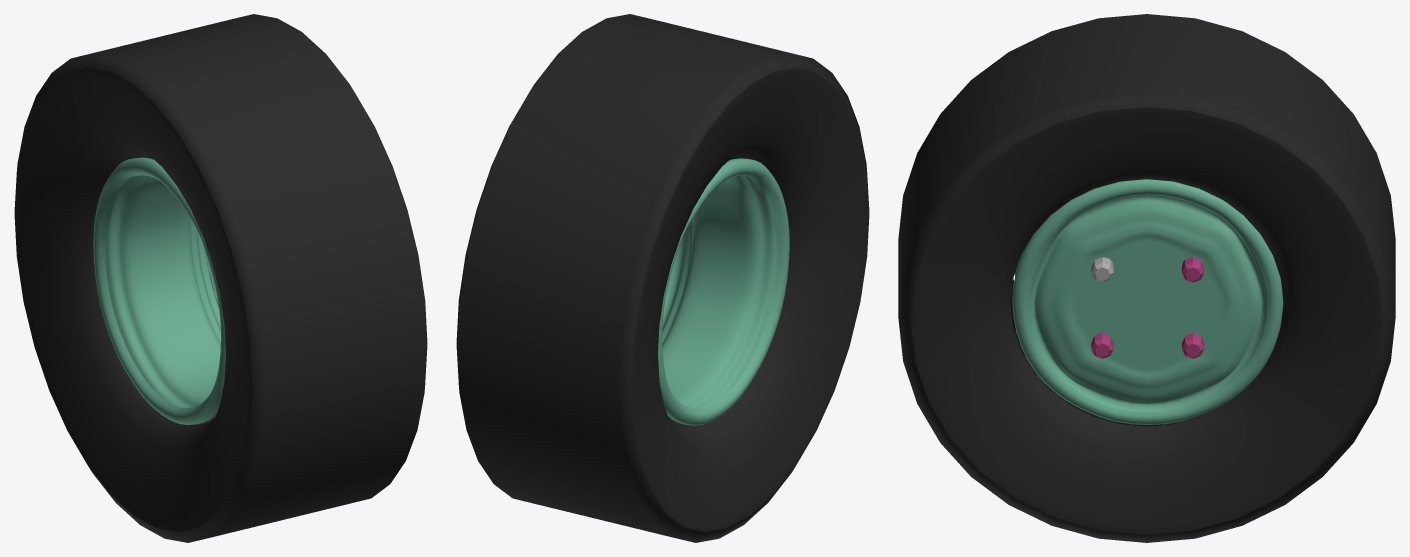
The model's file is LLANTA FINAL.fbx.
3 renders of one model, left to right at view 1: azimuth 30°, elevation 25°; view 2: azimuth 150°, elevation 25°; view 3: azimuth 270°, elevation 25°, orthographic.
Visible parts, largest first — view 1: Trailer_videojuego:LLANTA, Trailer_videojuego:RIN; view 2: Trailer_videojuego:LLANTA, Trailer_videojuego:RIN; view 3: Trailer_videojuego:LLANTA, Trailer_videojuego:RIN.
Boxes of the visible parts, bbox=[...] form: Trailer_videojuego:LLANTA: bbox=[14, 14, 427, 542]; Trailer_videojuego:RIN: bbox=[93, 157, 225, 424]; Trailer_videojuego:LLANTA: bbox=[456, 14, 869, 542]; Trailer_videojuego:RIN: bbox=[658, 158, 789, 425]; Trailer_videojuego:LLANTA: bbox=[898, 14, 1395, 542]; Trailer_videojuego:RIN: bbox=[1012, 179, 1283, 424].
Size of the model in its own units: 0.6316 by 1.56 by 1.56.
